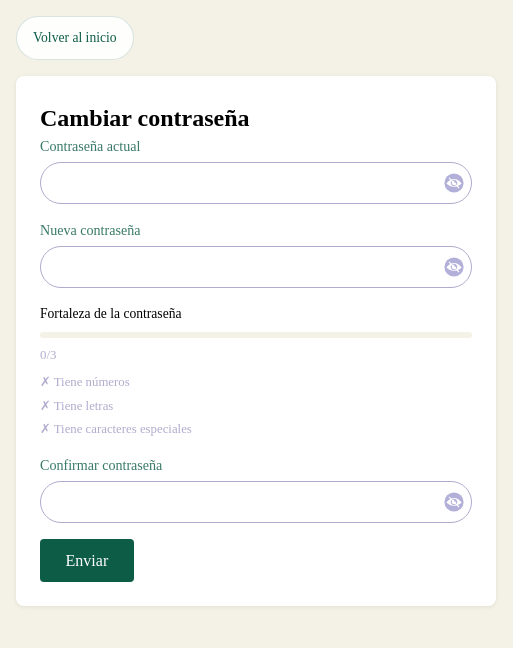
Scenario: ChangePasswordPage › shows error when passwords do not match
Type "newpass123" into the password field labelled "Nueva contraseña" at {"x": 256, "y": 267}, box x1=40 y1=246 x2=472 y2=288
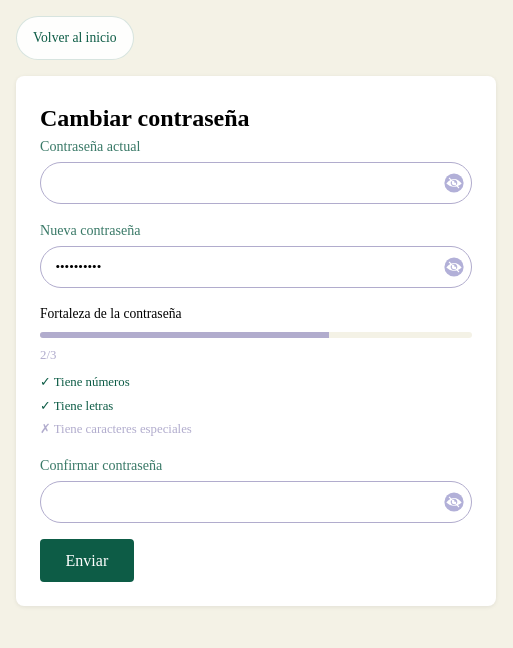
Type "different" into the password field labelled "Confirmar contraseña" at {"x": 256, "y": 502}, box x1=40 y1=481 x2=472 y2=523
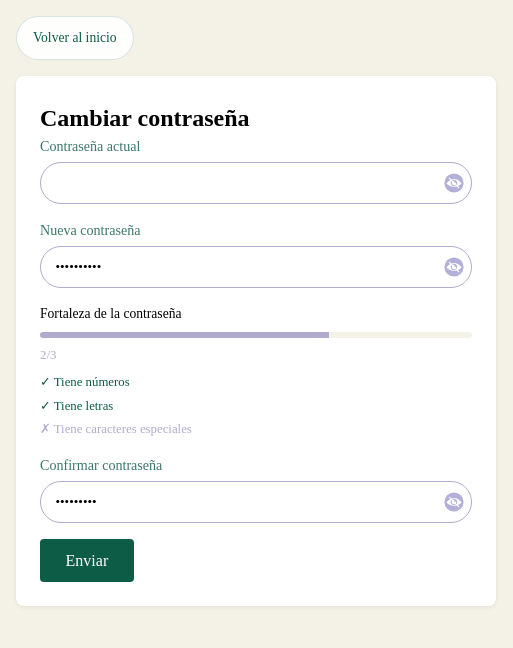
Submit the form named "Enviar", box x1=40 y1=136 x2=472 y2=582
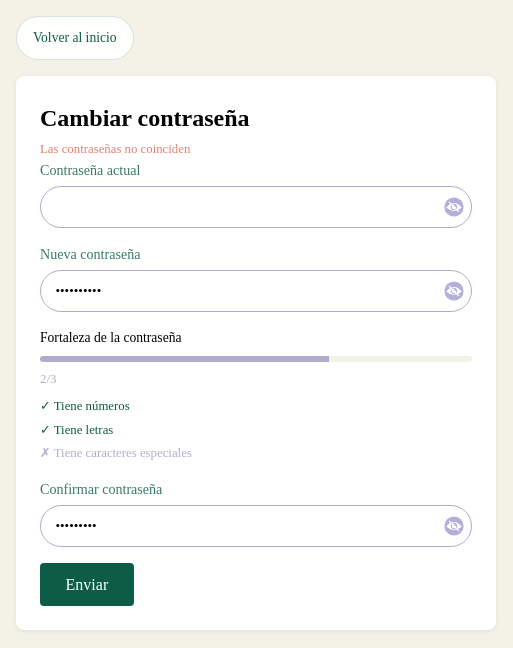
Now the message reads "Las contraseñas no coinciden", box x1=40 y1=142 x2=190 y2=156
